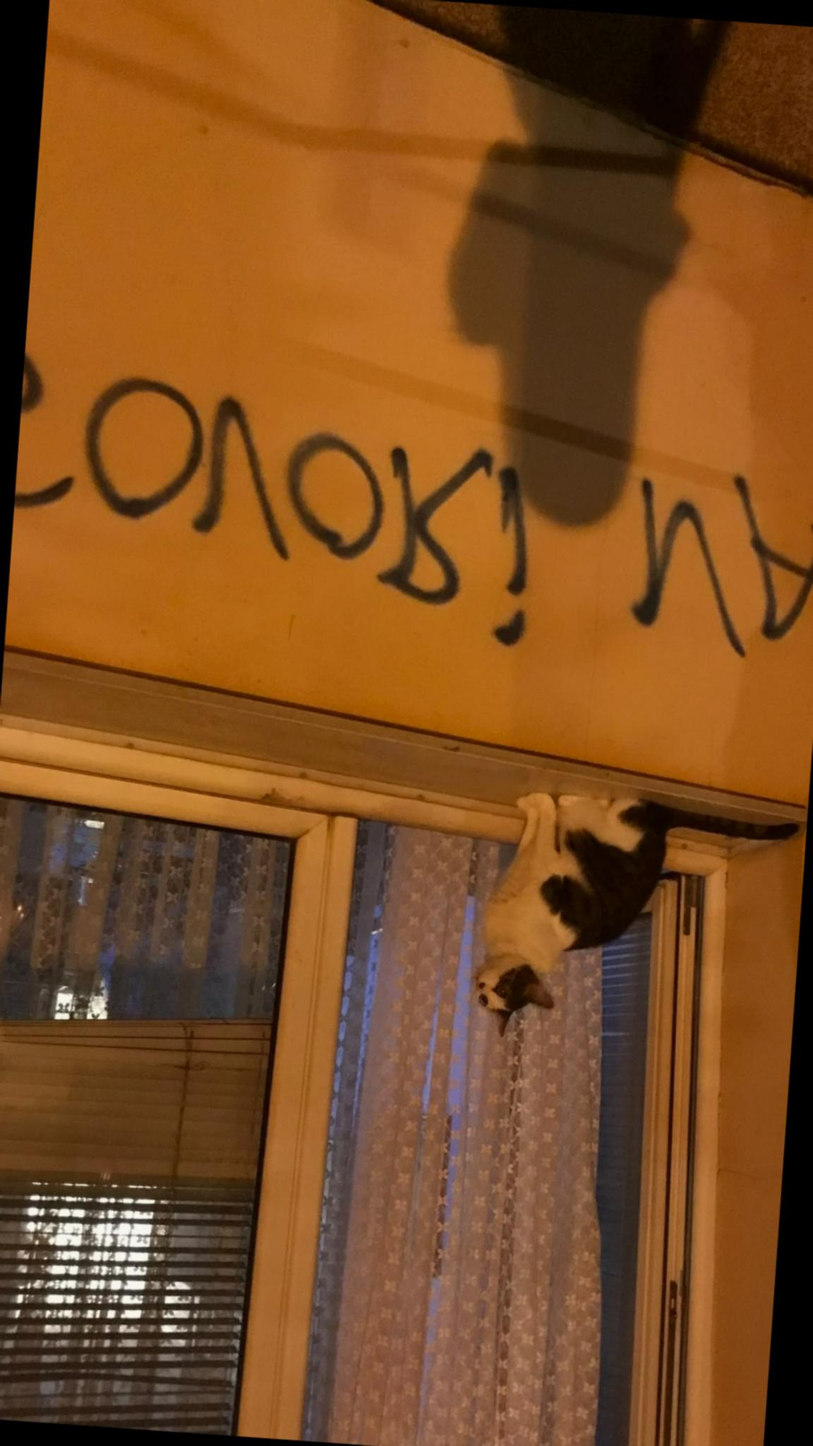macka: (471, 789, 805, 1058)
